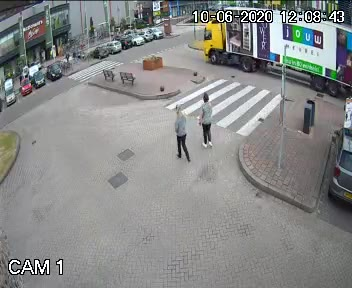car: (200, 1, 352, 115)
